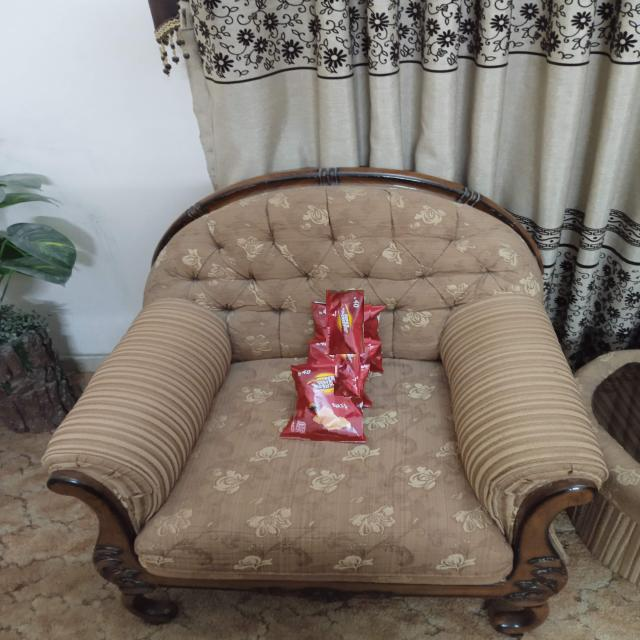Plastic: (289, 374, 363, 441), (318, 297, 371, 348), (321, 331, 370, 380)
